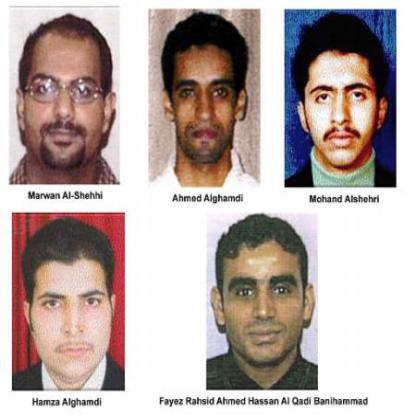face: (23, 17, 108, 173), (31, 225, 112, 384), (223, 219, 306, 368), (305, 25, 381, 170), (172, 23, 240, 165)
